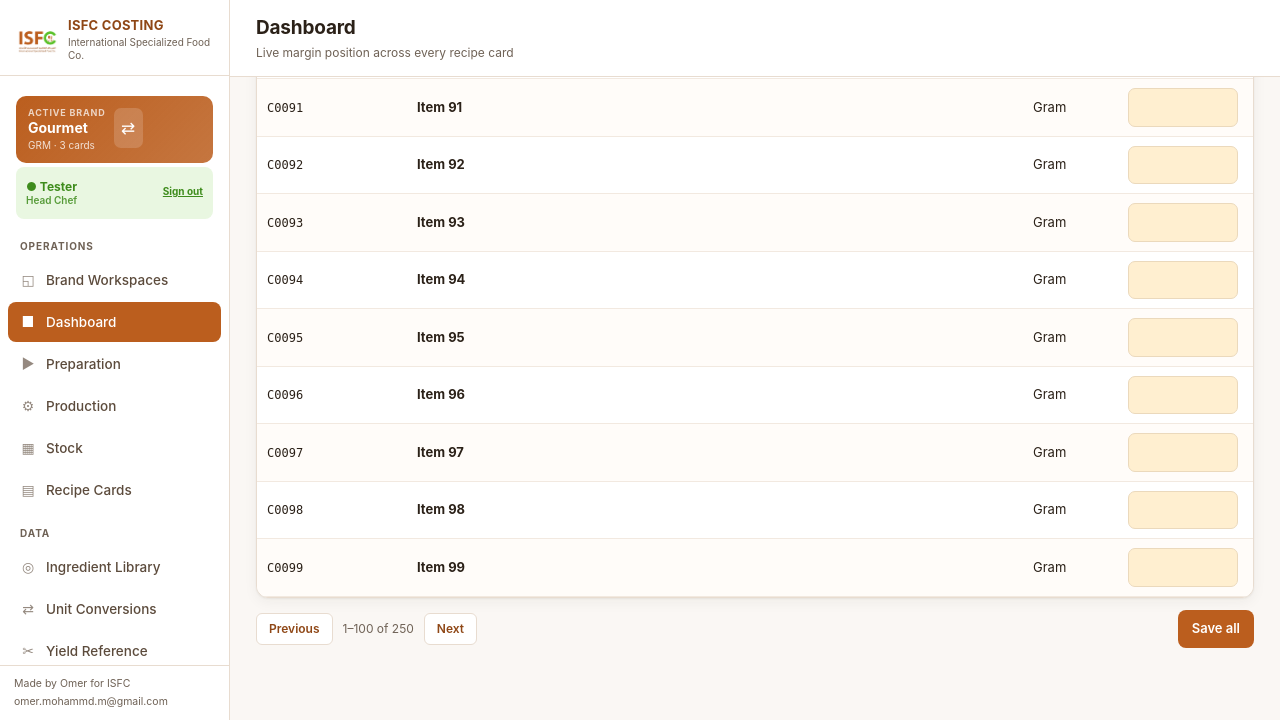
Test case: Stock screen (D-73) › pages a long list by 100 rows
(page scrolled)
Expected: the text "1–100 of 250" is shown, x1=342 y1=620 x2=414 y2=638
Step 1. Click the button "Next" → (450, 629), box x1=424 y1=613 x2=477 y2=645
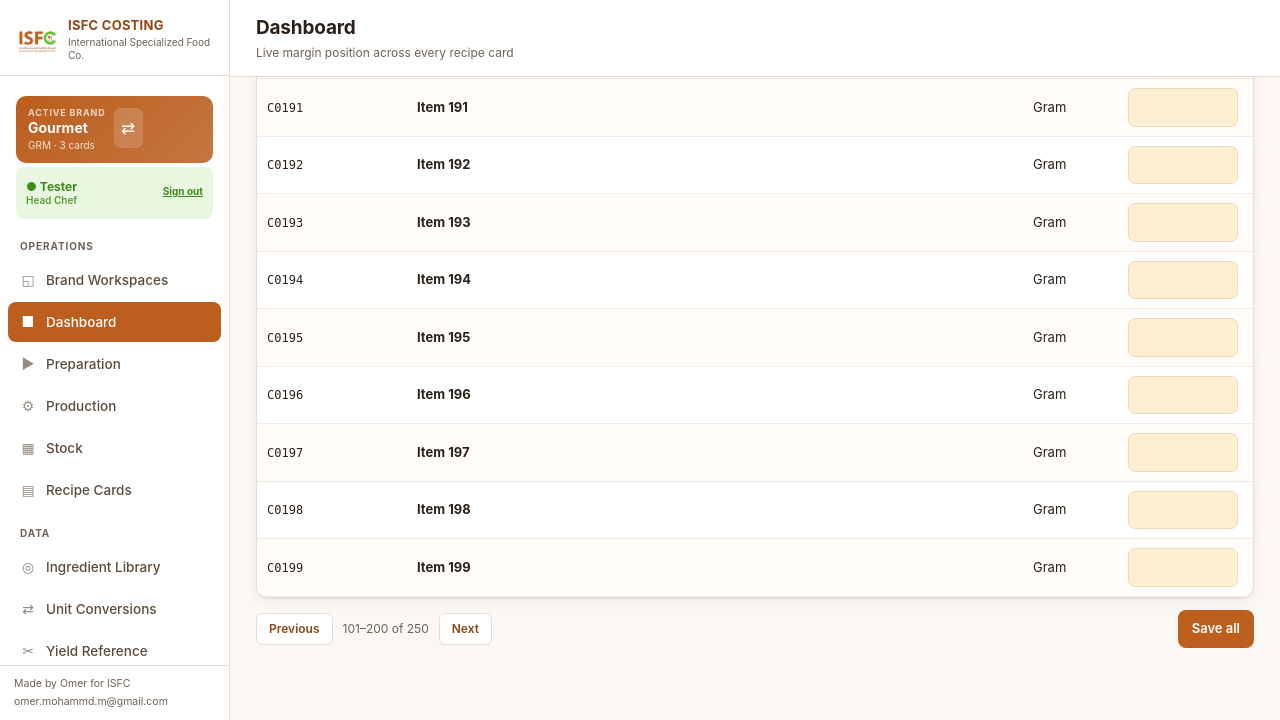
Now the text "101–200 of 250" is shown, box x1=342 y1=620 x2=429 y2=638
Step 2. Click the button "Next" → (465, 629), box x1=439 y1=613 x2=492 y2=645
(page scrolled)
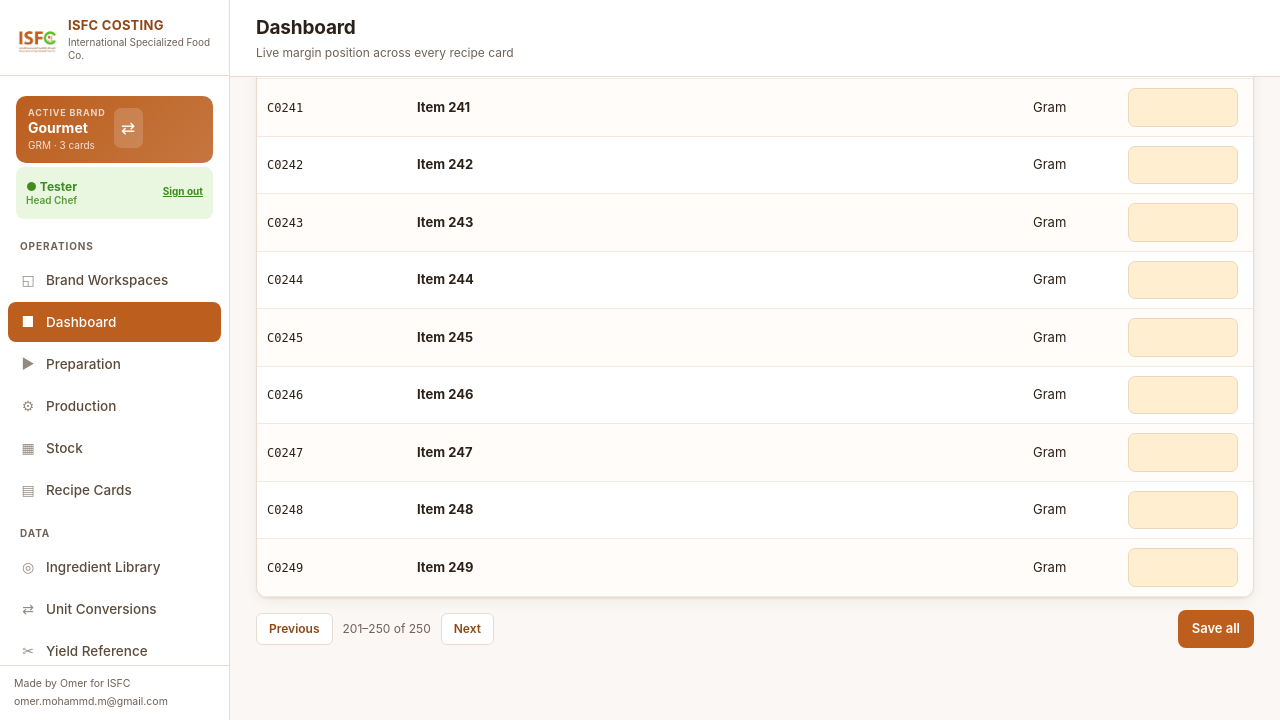
Now the text "201–250 of 250" is shown, box x1=342 y1=620 x2=431 y2=638
Now the button "Next" is disabled, box x1=441 y1=613 x2=494 y2=645
